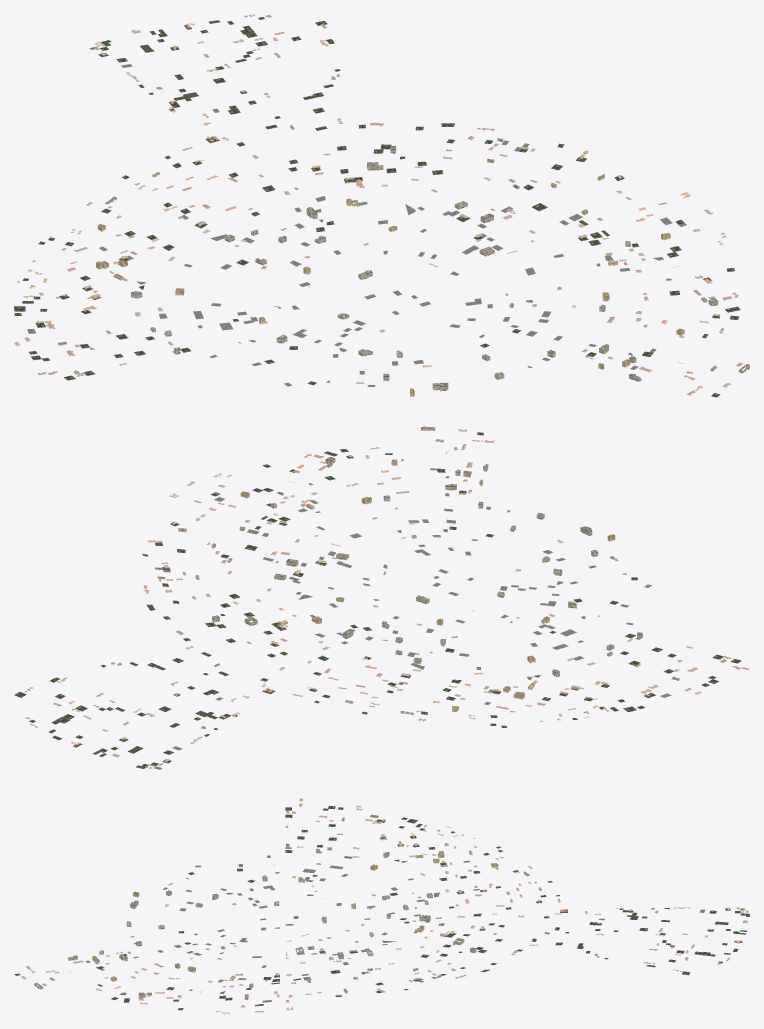
The model's file is city_3d_model_17.glb.
3 views of the same model, one above another, from view 1: azimuth 30°, elevation 25°; view 2: azimuth 150°, elevation 25°; view 3: azimuth 270°, elevation 25° (orthographic). The views are drawn at different scales.
Parts seen in each view (by area): view 1: Object_252, Object_226, Object_230, Object_248, Object_238, Object_246, Object_242, Object_250, Object_234, Object_236; view 2: Object_252, Object_226, Object_230, Object_238, Object_248, Object_246, Object_234, Object_242; view 3: Object_252, Object_230, Object_226, Object_238, Object_248, Object_234, Object_242, Object_250.
Part boxes in pixels (left/top/right/bottom): Object_252: left=22, top=17, right=734, bottom=397; Object_226: left=14, top=20, right=740, bottom=363; Object_230: left=58, top=125, right=749, bottom=391; Object_248: left=27, top=46, right=672, bottom=368; Object_238: left=73, top=74, right=717, bottom=396; Object_246: left=121, top=64, right=671, bottom=379; Object_242: left=27, top=42, right=730, bottom=387; Object_250: left=23, top=23, right=713, bottom=390; Object_234: left=44, top=41, right=714, bottom=383; Object_236: left=136, top=197, right=686, bottom=386; Object_252: left=14, top=432, right=741, bottom=766; Object_226: left=50, top=449, right=718, bottom=768; Object_230: left=159, top=426, right=679, bottom=715; Object_238: left=111, top=439, right=726, bottom=729; Object_248: left=154, top=476, right=671, bottom=769; Object_246: left=157, top=468, right=610, bottom=750; Object_234: left=133, top=461, right=679, bottom=768; Object_242: left=60, top=429, right=649, bottom=744; Object_252: left=14, top=807, right=742, bottom=1005; Object_230: left=34, top=817, right=549, bottom=997; Object_226: left=96, top=805, right=749, bottom=1010; Object_238: left=49, top=811, right=658, bottom=999; Object_248: left=105, top=814, right=744, bottom=1002; Object_234: left=141, top=819, right=748, bottom=1007; Object_242: left=21, top=819, right=690, bottom=1012; Object_250: left=30, top=824, right=741, bottom=1010.
Bounding box in the file's own units: 744 × 42.51 × 992.
15 materials, 15 textured.
